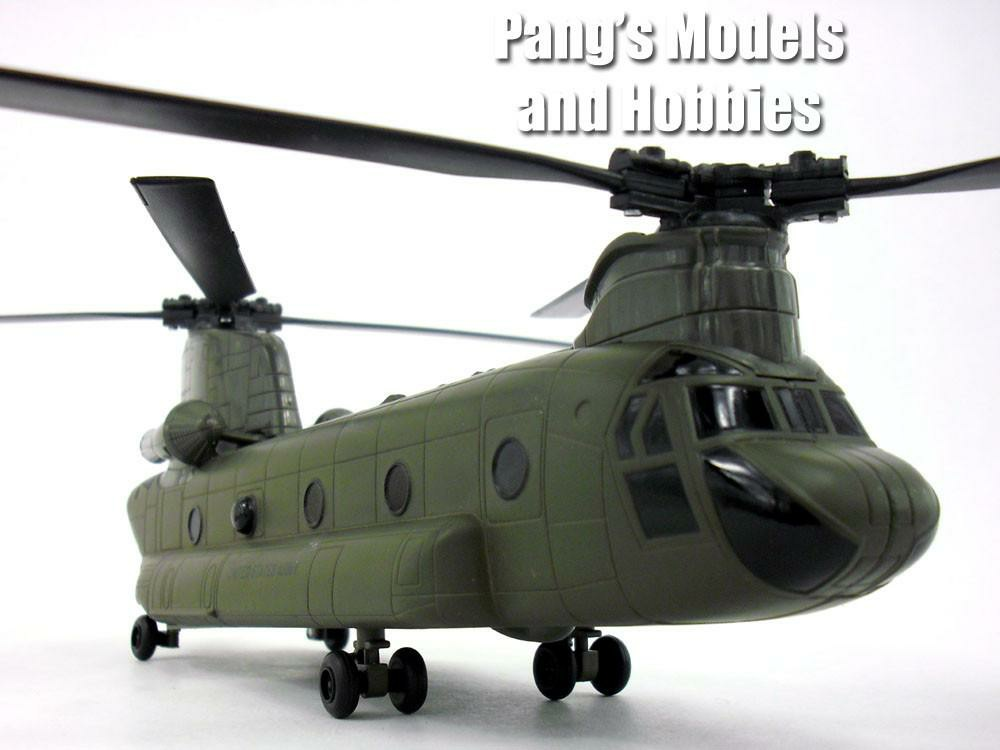chinook: (6, 135, 1000, 726)
